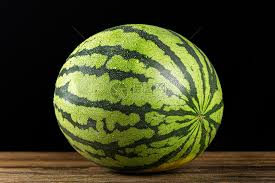watermelon: (54, 24, 222, 171)
